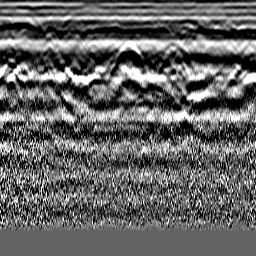cavity: (115, 41, 142, 64)
